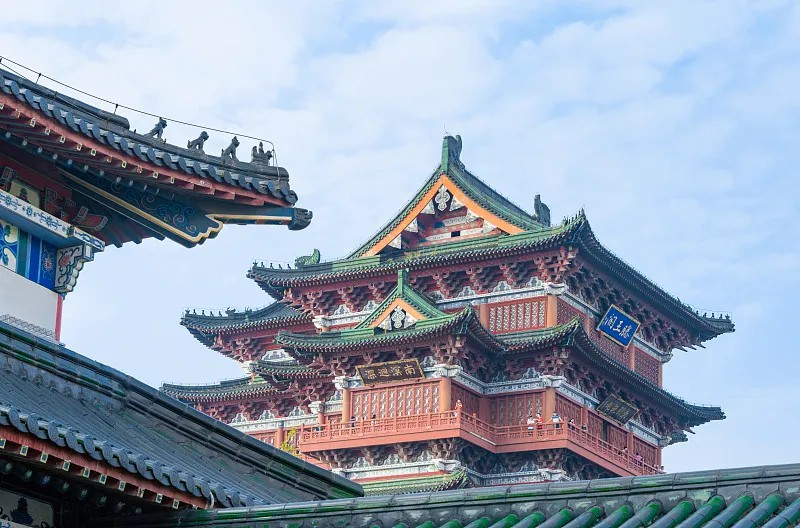Teng: (160, 132, 736, 470)
